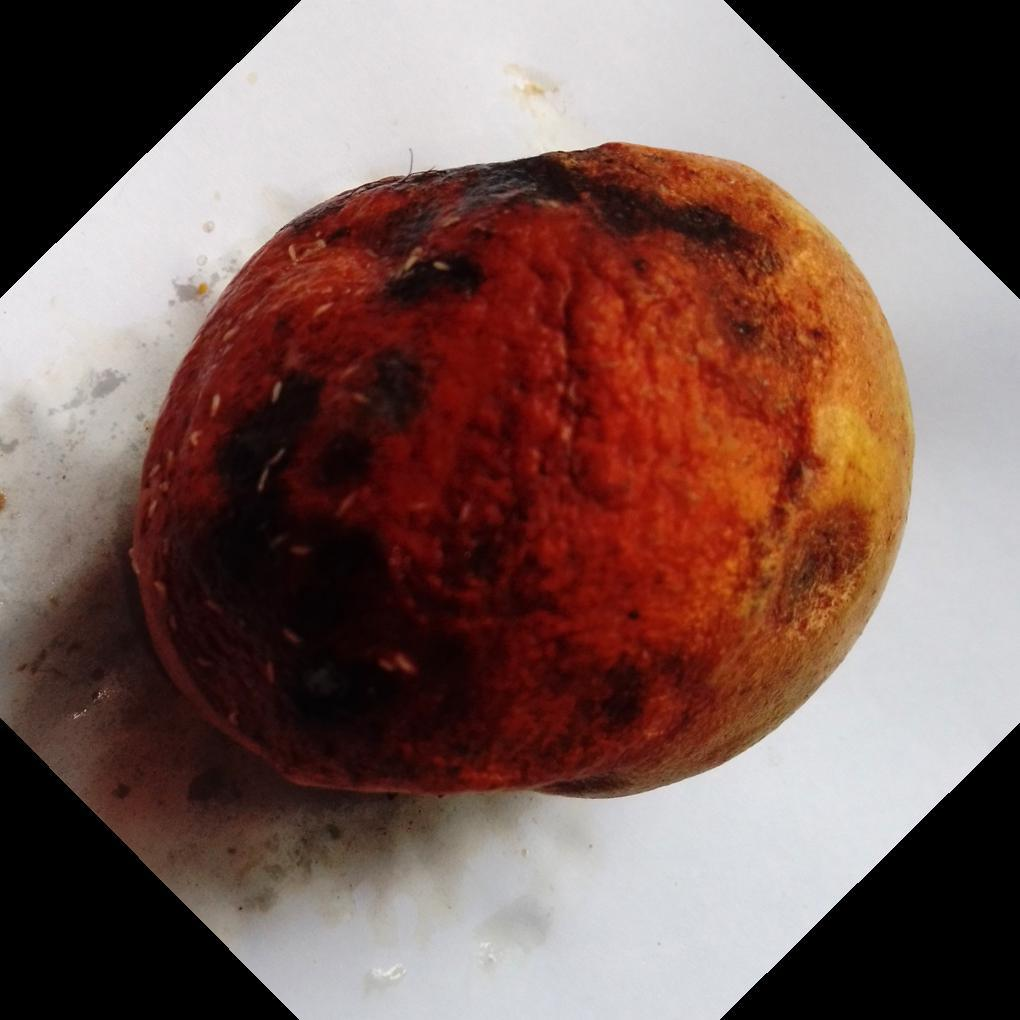FreshOrange: (126, 144, 916, 803)
